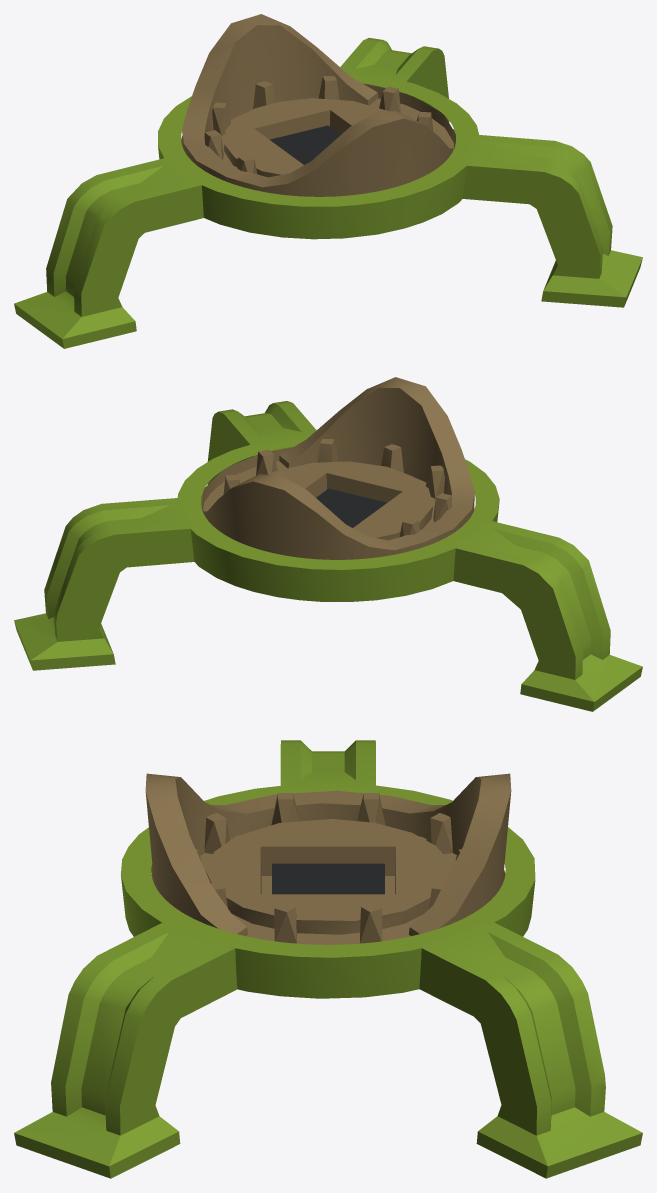
The model's file is bulk-inserter-west.glb.
3 views of the same model, one above another, from view 1: azimuth 30°, elevation 25°; view 2: azimuth 150°, elevation 25°; view 3: azimuth 270°, elevation 25° (orthographic). The views are drawn at different scales.
Parts seen in each view (by area): view 1: body; view 2: body; view 3: body.
Boxes of the visible parts, bbox=[...] form: body: bbox=[14, 14, 642, 348]; body: bbox=[14, 377, 642, 711]; body: bbox=[14, 740, 642, 1178].
Size of the model in its own units: 1.15 by 0.4117 by 0.938.
